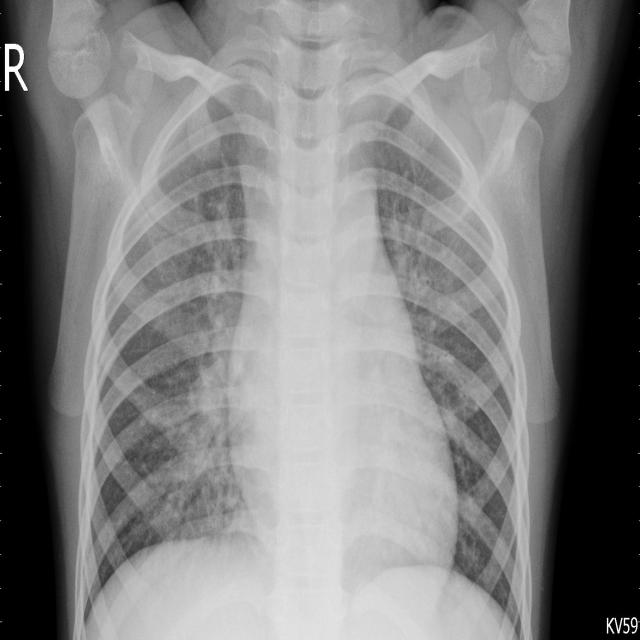low-pneumonia: (152, 197, 264, 535), (383, 179, 475, 354)
